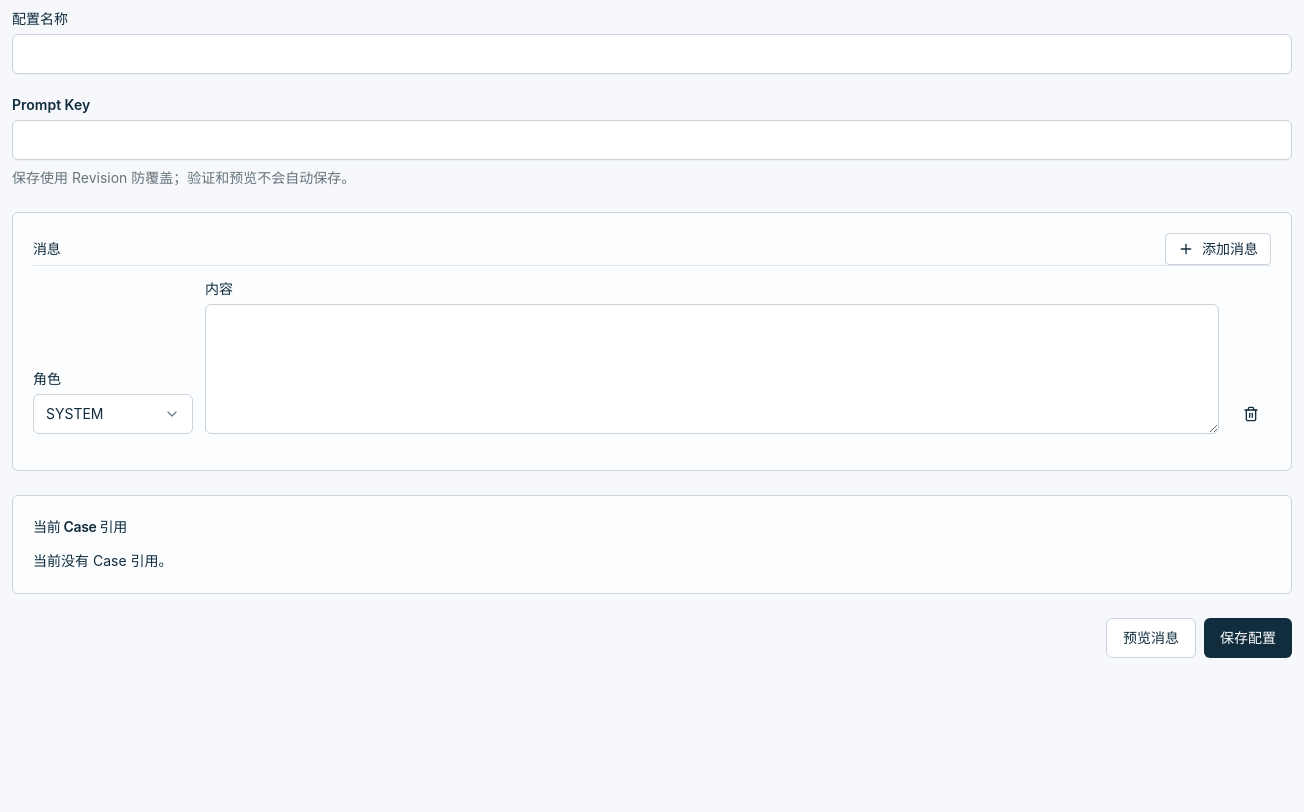
Test: 四类配置编辑器 › Prompt 本地内容错误关联并聚焦真实消息控件
Type "空提示词" into the field labelled "配置名称" at (652, 54), box [12,34,1292,74]
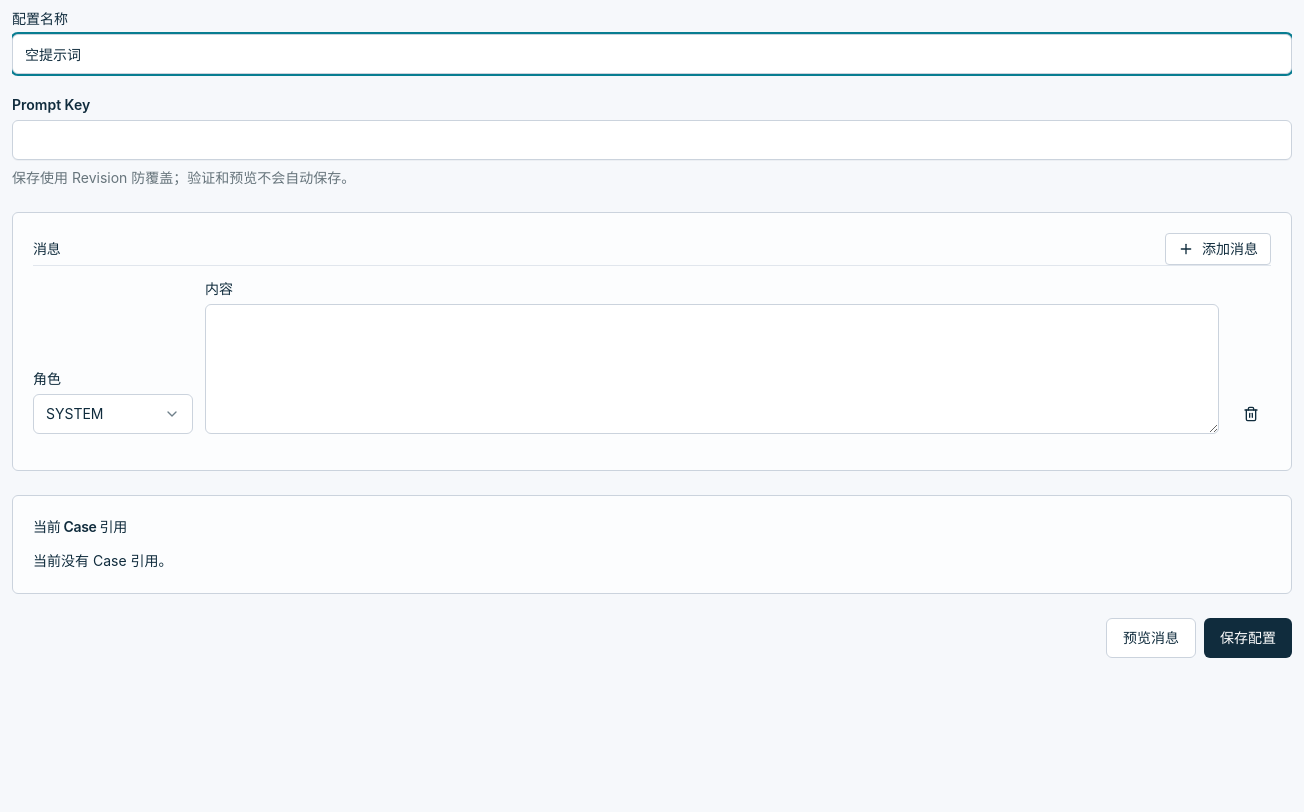
Type "empty.default" into the field labelled "Prompt Key" at (652, 140), box [12,120,1292,160]
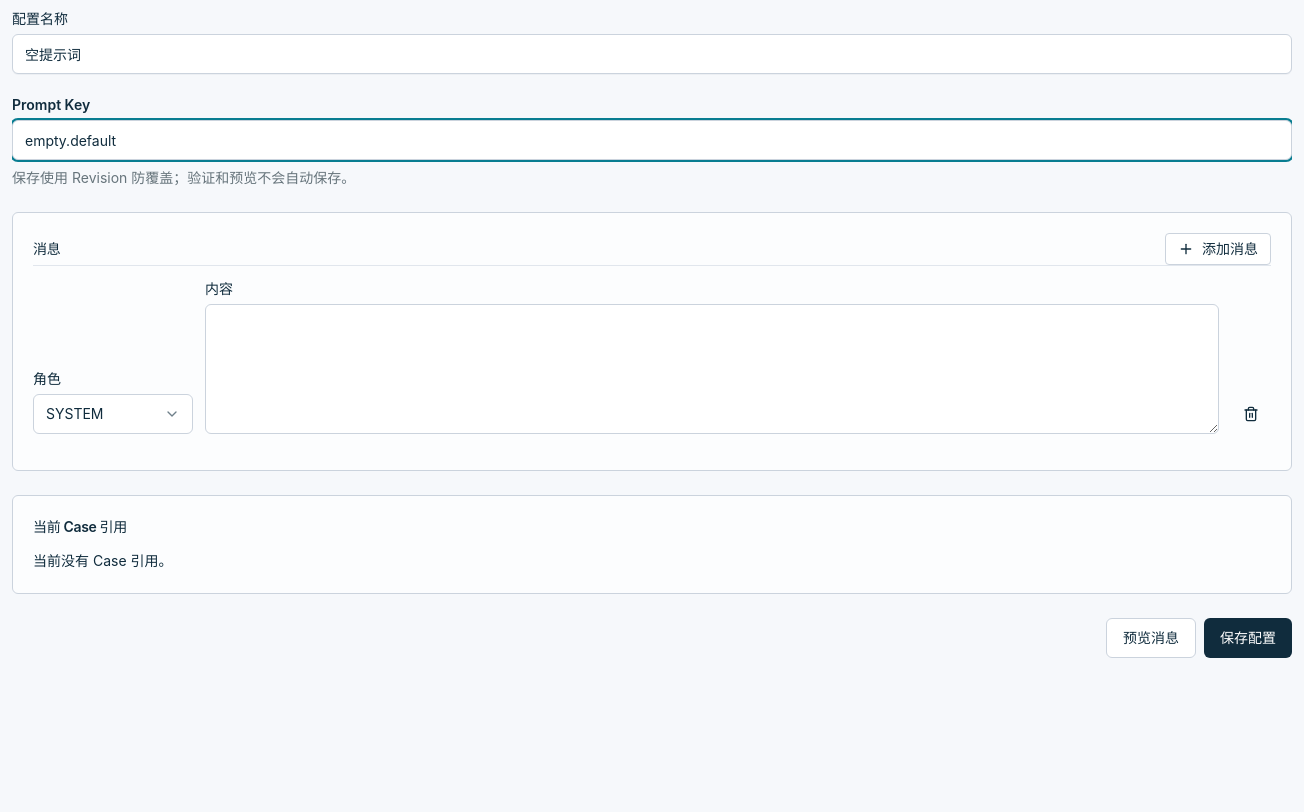
Click the button "保存配置" at (1248, 638), box [1204,618,1292,658]
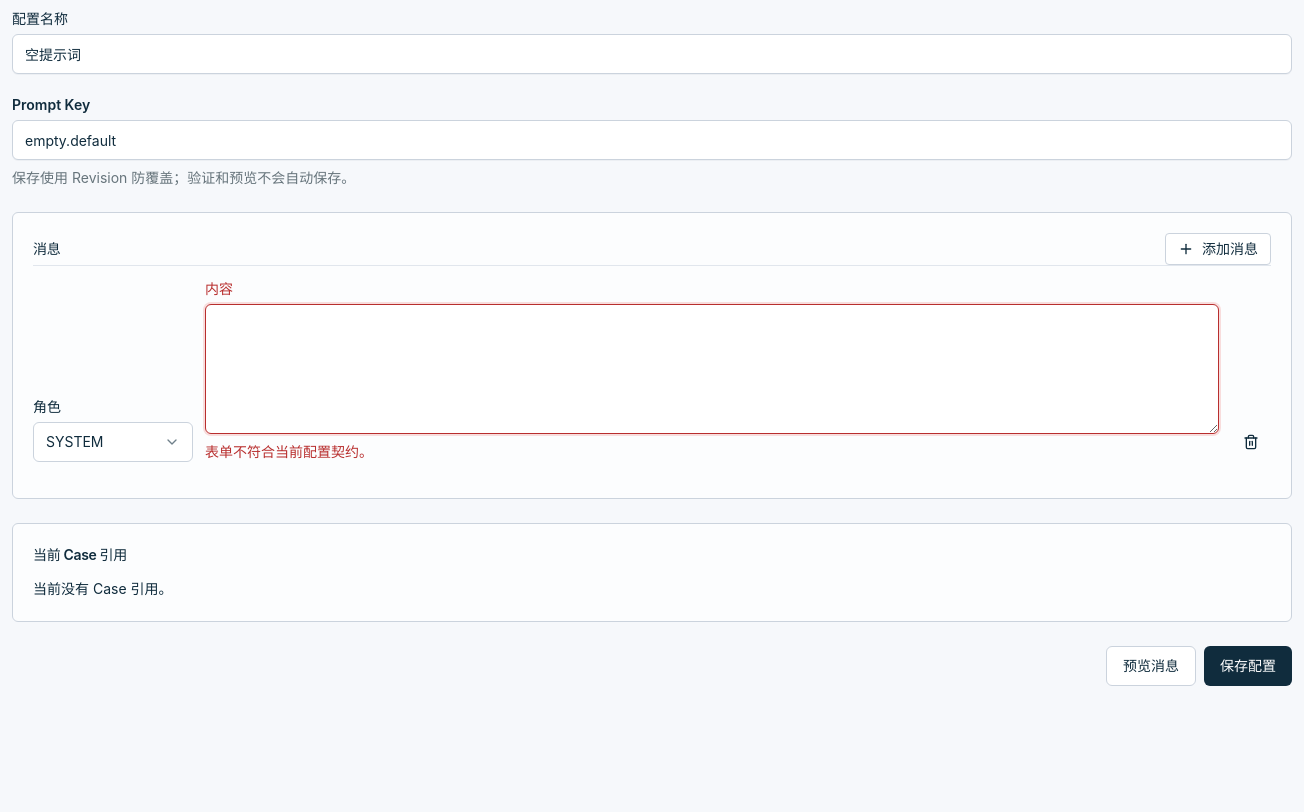
expect the text "表单不符合当前配置契约。" is shown: met, box [205,443,373,460]
